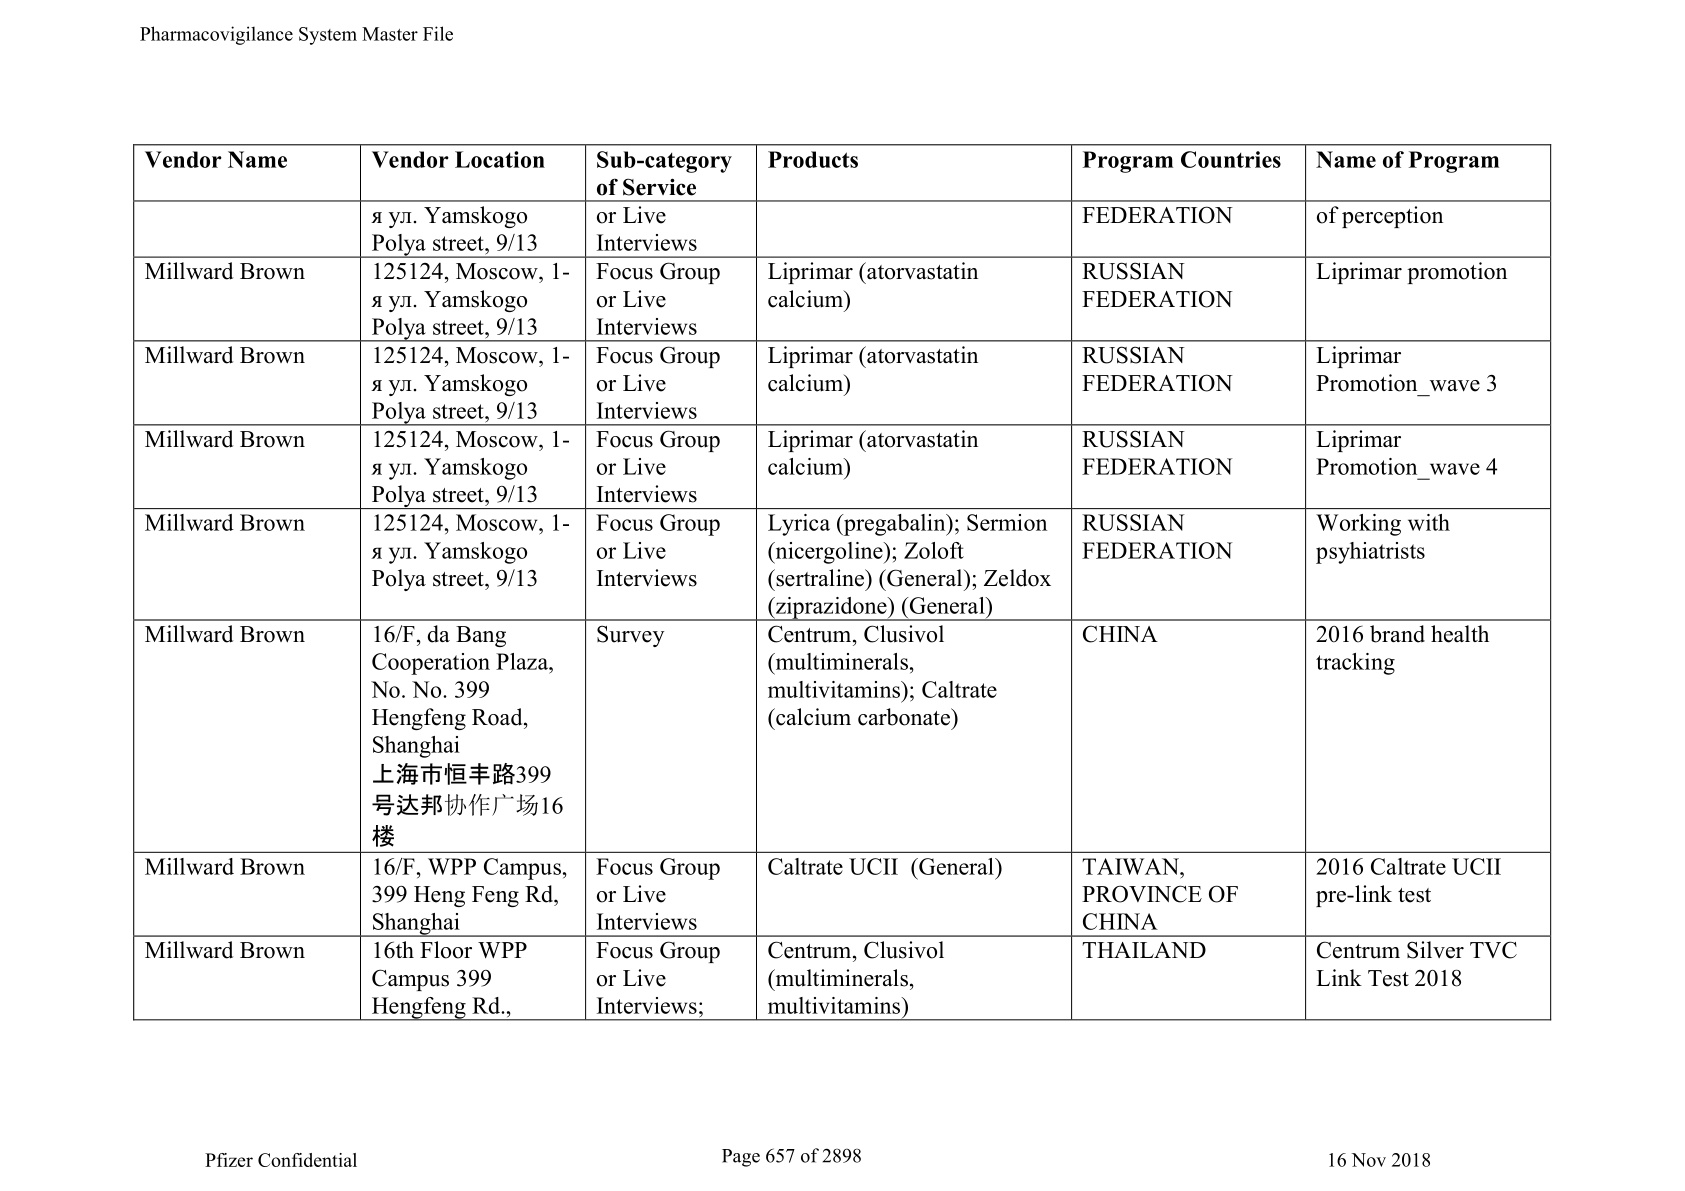full_lined: (131, 142, 1552, 1022)
